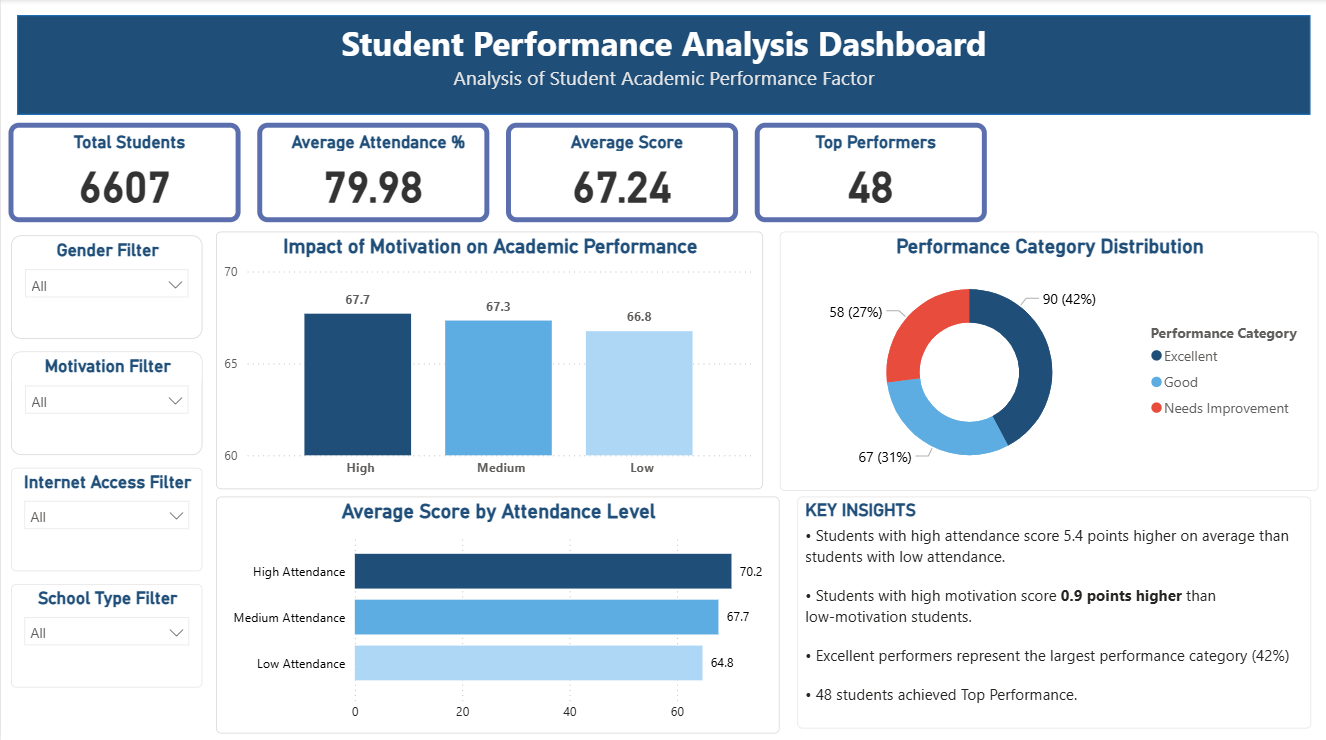

The dashboard page shown, as its layout file describes it:
{"tool":"powerbi","page":{"name":"Page 1","canvas":[1280,720],"ordinal":0},"visuals":[{"type":"shape","box":[16,16,1248,96],"z":0},{"type":"textbox","box":[64,16,1152,80],"z":1000},{"type":"card","title":"Average Attendance %","fields":{"Values":["Avg(StudentPerformanceFactors.Attendance)"]},"box":[247.2,119.1,224,96],"z":2000},{"type":"card","title":"Total Students","fields":{"Values":["CountNonNull(StudentPerformanceFactors.Exam_Score)"]},"box":[7.2,119.1,224,96],"z":3000},{"type":"card","title":"Average Score","fields":{"Values":["Avg(StudentPerformanceFactors.Exam_Score)"]},"box":[487.2,119.1,224,96],"z":4000},{"type":"card","title":"Top Performers","fields":{"Values":["StudentPerformanceFactors.Excellent Students"]},"box":[727.2,119.1,224,96],"z":5000},{"type":"slicer","title":"Gender Filter","fields":{"Values":["StudentPerformanceFactors.Gender"]},"box":[10.2,228.3,185,100],"z":6000},{"type":"slicer","title":"Motivation Filter","fields":{"Values":["StudentPerformanceFactors.Motivation_Level"]},"box":[10.2,340.3,185,100],"z":7000},{"type":"clusteredColumnChart","title":"Impact of Motivation on Academic Performance","fields":{"Y":["StudentPerformanceFactors.Average Exam Score"],"Category":["StudentPerformanceFactors.Motivation_Level"]},"box":[208,224,528,249],"z":8000},{"type":"clusteredBarChart","title":"Average Score by Attendance Level","fields":{"Y":["Avg(StudentPerformanceFactors.Exam_Score)"],"Category":["StudentPerformanceFactors.Attendance Level"]},"box":[208,480,544,229],"z":9000},{"type":"slicer","title":"Internet Access Filter","fields":{"Values":["StudentPerformanceFactors.Internet_Access"]},"box":[10.2,452.3,185,100],"z":10000},{"type":"slicer","title":"School Type Filter","fields":{"Values":["StudentPerformanceFactors.School_Type"]},"box":[10.2,564.3,185,100],"z":11000},{"type":"donutChart","title":"Performance Category Distribution","fields":{"Category":["StudentPerformanceFactors.Performance_Category"],"Y":["Avg(StudentPerformanceFactors.Exam_Score)"]},"box":[752,224,520,250],"z":12000},{"type":"textbox","title":"KEY INSIGHTS","box":[768,480,496,224],"z":13000}]}

Visuals, with their boxes in screenshot pixels (x1, y1, x2, y2), scaled from the page's 1280x720 canvas onto the 1326x740 screenshot:
shape: rect(17, 16, 1309, 115)
textbox: rect(66, 16, 1260, 99)
"Average Attendance %" card: rect(256, 122, 488, 221)
"Total Students" card: rect(7, 122, 240, 221)
"Average Score" card: rect(505, 122, 737, 221)
"Top Performers" card: rect(753, 122, 985, 221)
"Gender Filter" slicer: rect(11, 235, 202, 337)
"Motivation Filter" slicer: rect(11, 350, 202, 453)
"Impact of Motivation on Academic Performance" clusteredColumnChart: rect(215, 230, 762, 486)
"Average Score by Attendance Level" clusteredBarChart: rect(215, 493, 779, 729)
"Internet Access Filter" slicer: rect(11, 465, 202, 568)
"School Type Filter" slicer: rect(11, 580, 202, 683)
"Performance Category Distribution" donutChart: rect(779, 230, 1318, 487)
"KEY INSIGHTS" textbox: rect(796, 493, 1309, 724)
